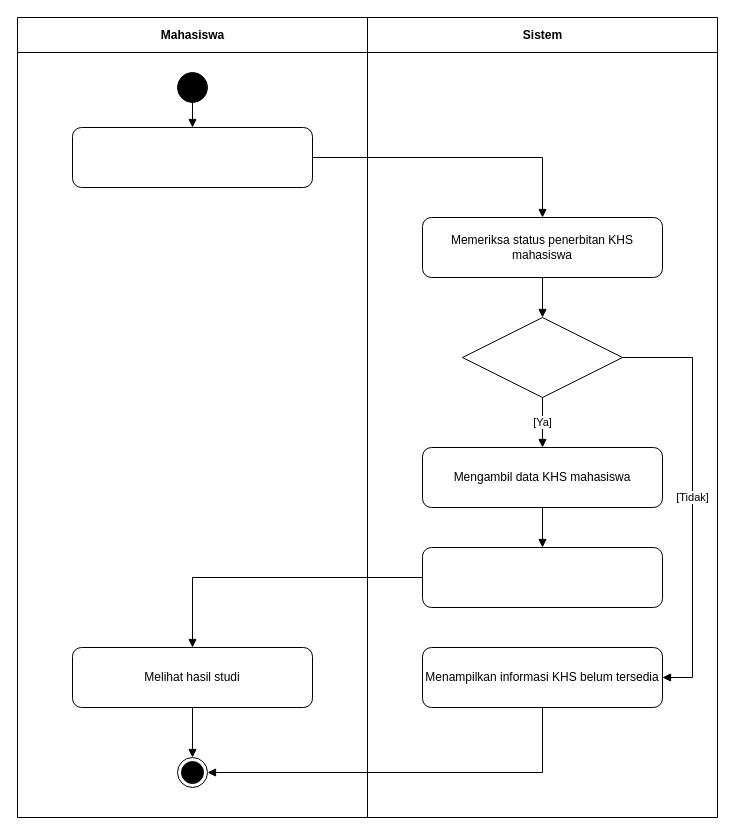
This 735x835 diagram has some shape labels left out. The centre of each missing label's shape, as x and y in pixels:
KHS sudah diterbitkan?: pixel 542 357
Membuka menu KHS: pixel 192 157
Menampilkan KHS mahasiswa: pixel 542 577
